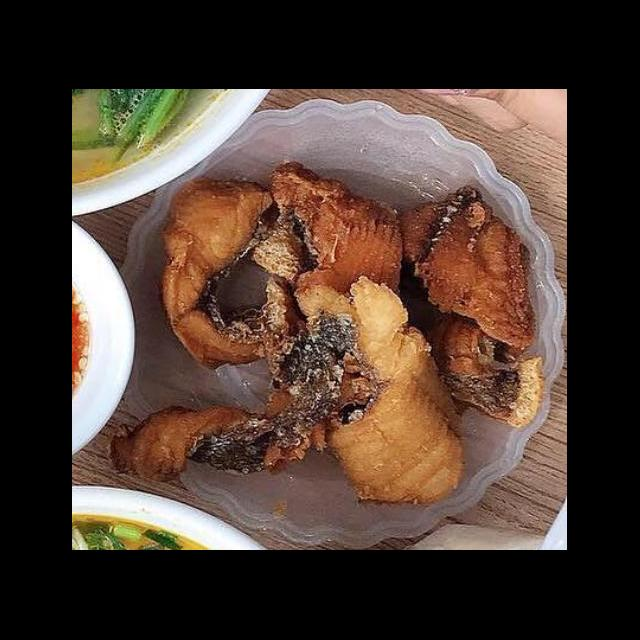ca: (104, 308, 388, 490), (288, 267, 474, 514), (152, 170, 300, 377), (388, 178, 544, 354), (256, 154, 408, 314), (410, 314, 552, 432)
